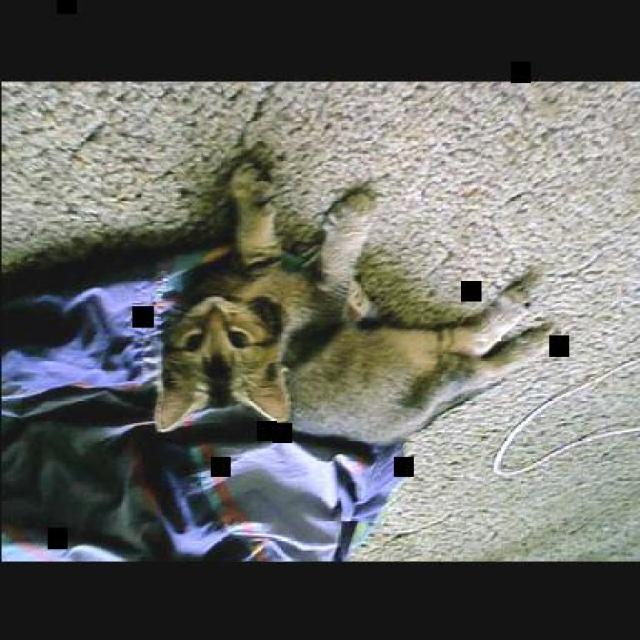unauthorized: (151, 141, 554, 454)
